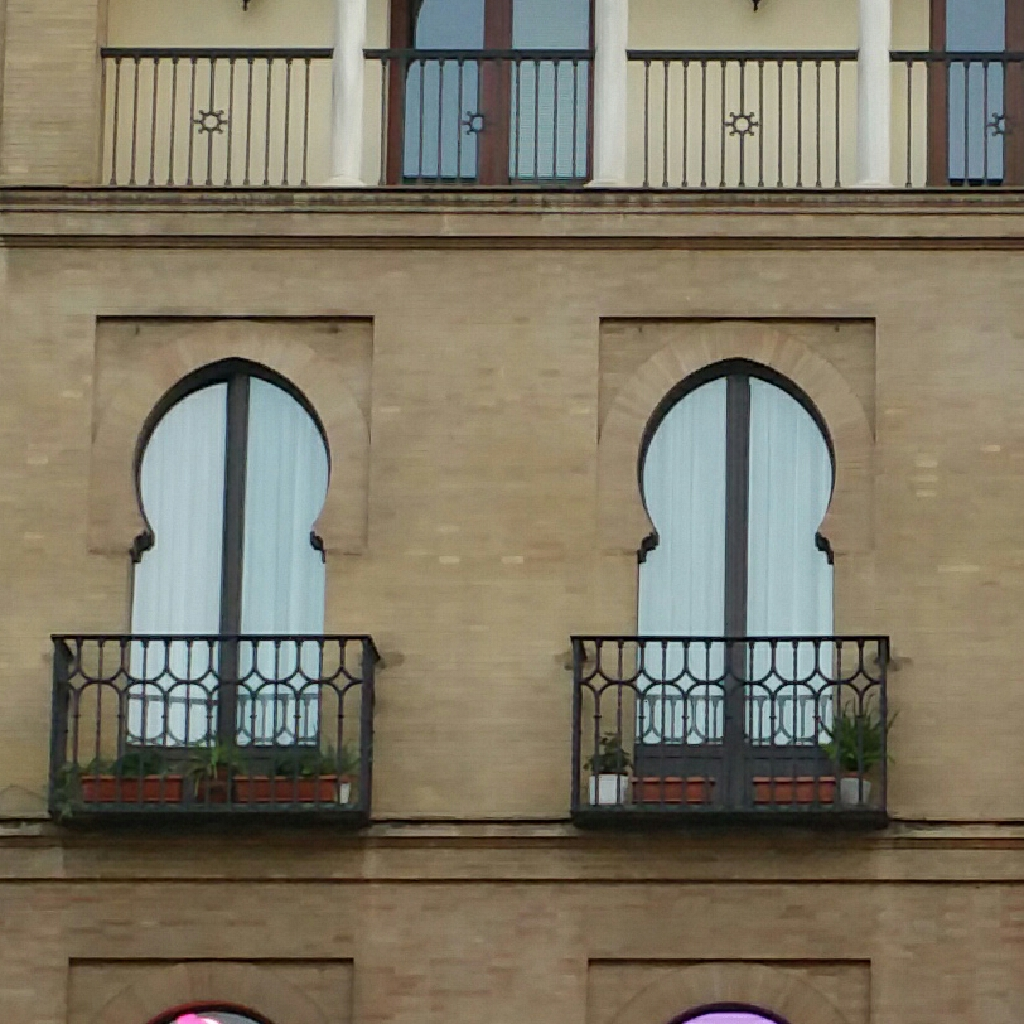arco-herradura: (607, 337, 865, 576), (111, 340, 350, 580)
